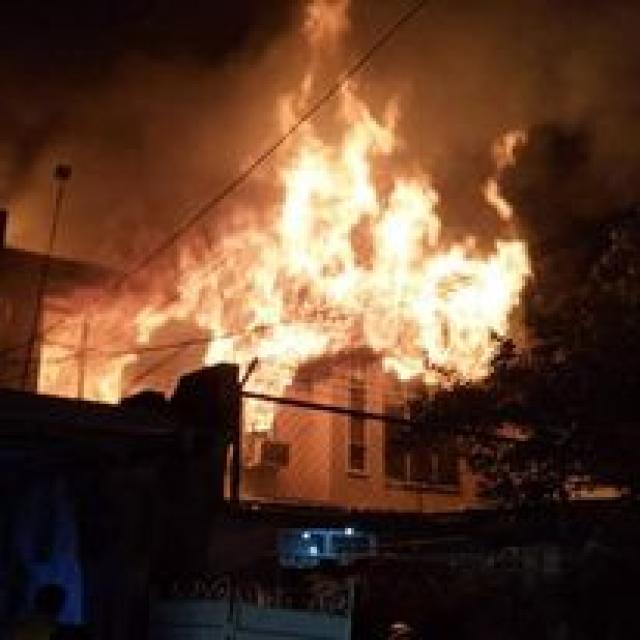Fire: (90, 39, 532, 424)
